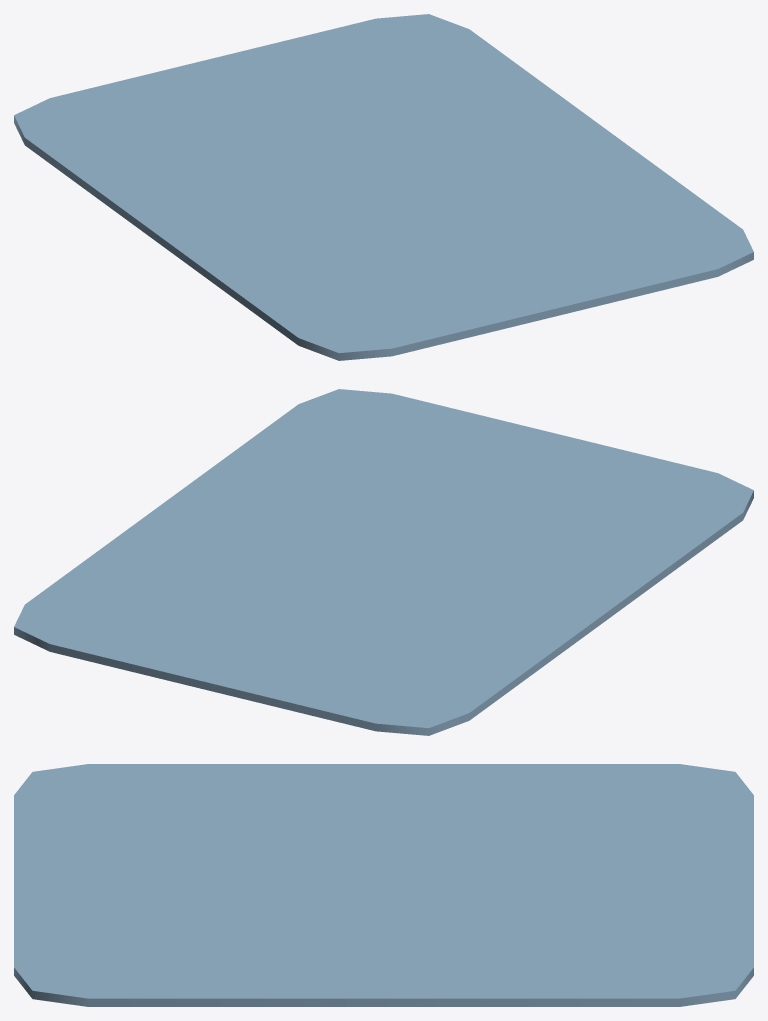
The model's file is carpet-rectangle-solid.glb.
3 views of the same model, one above another, from view 1: azimuth 30°, elevation 25°; view 2: azimuth 150°, elevation 25°; view 3: azimuth 270°, elevation 25° (orthographic). The views are drawn at different scales.
Visible parts, largest first — view 1: carpet-rectangle-solid; view 2: carpet-rectangle-solid; view 3: carpet-rectangle-solid.
Part boxes in pixels (x1,y1,x2,y2): carpet-rectangle-solid: (14, 14, 753, 360); carpet-rectangle-solid: (14, 389, 753, 735); carpet-rectangle-solid: (14, 764, 753, 1006).
Bounding box in the file's own units: 1.5 × 0.025 × 2.
